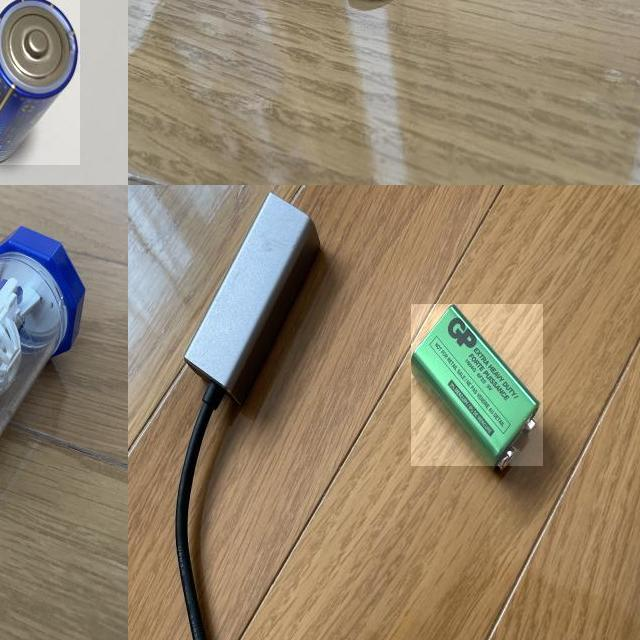9V: (412, 304, 544, 466)
